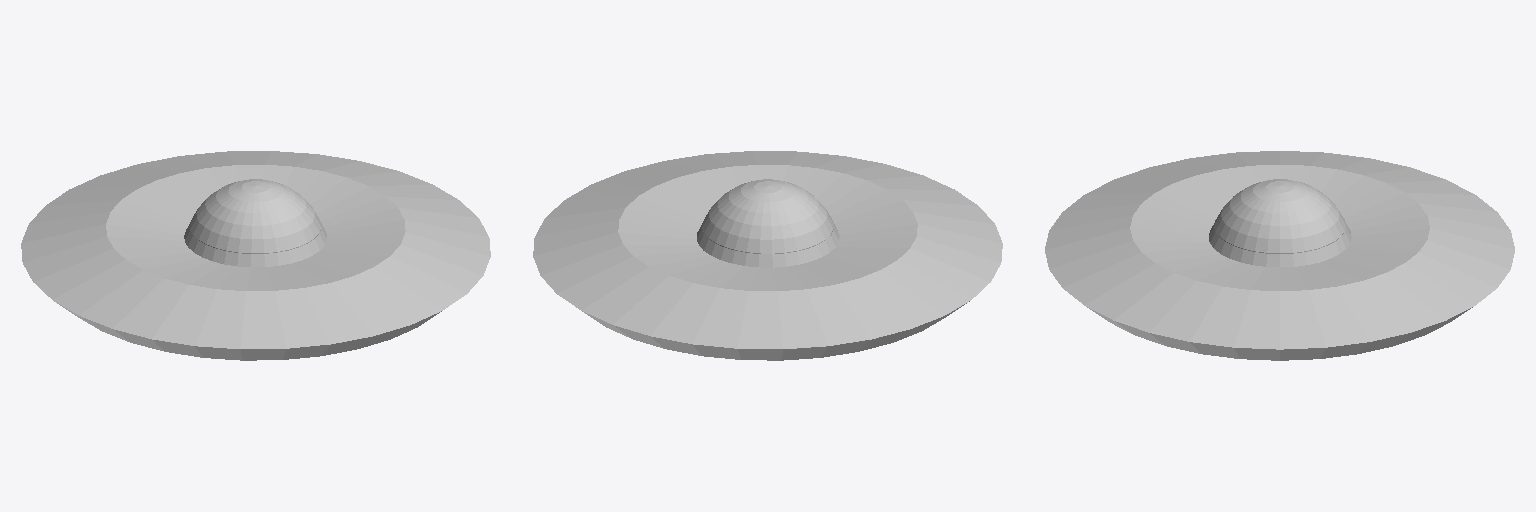
Rendered from ufo_obj.obj.
3 views of the same model, side by side, from view 1: azimuth 30°, elevation 25°; view 2: azimuth 150°, elevation 25°; view 3: azimuth 270°, elevation 25° (orthographic).
Visible parts, largest first — view 1: Sphere_Sphere.001; view 2: Sphere_Sphere.001; view 3: Sphere_Sphere.001.
Boxes of the visible parts, <box> form: Sphere_Sphere.001: <box>21,151,490,360</box>; Sphere_Sphere.001: <box>533,151,1002,360</box>; Sphere_Sphere.001: <box>1045,151,1514,360</box>.
Size of the model in its own units: 6.59 by 2.17 by 6.59.